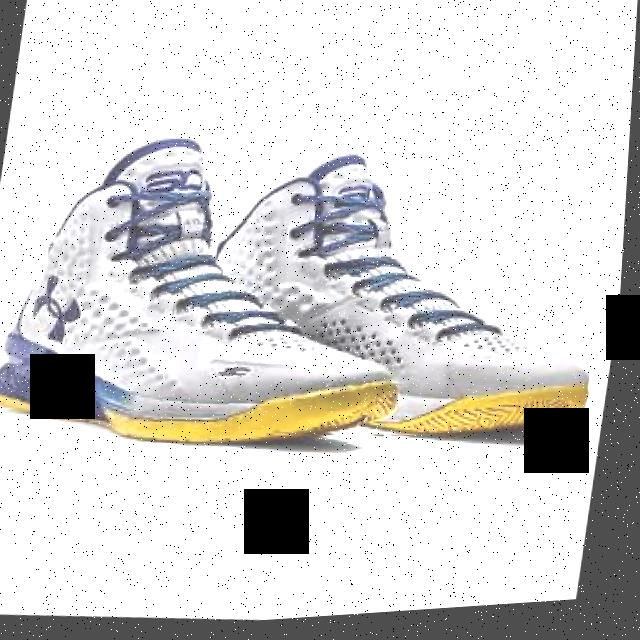shoe: (155, 131, 625, 472), (0, 111, 430, 474)
